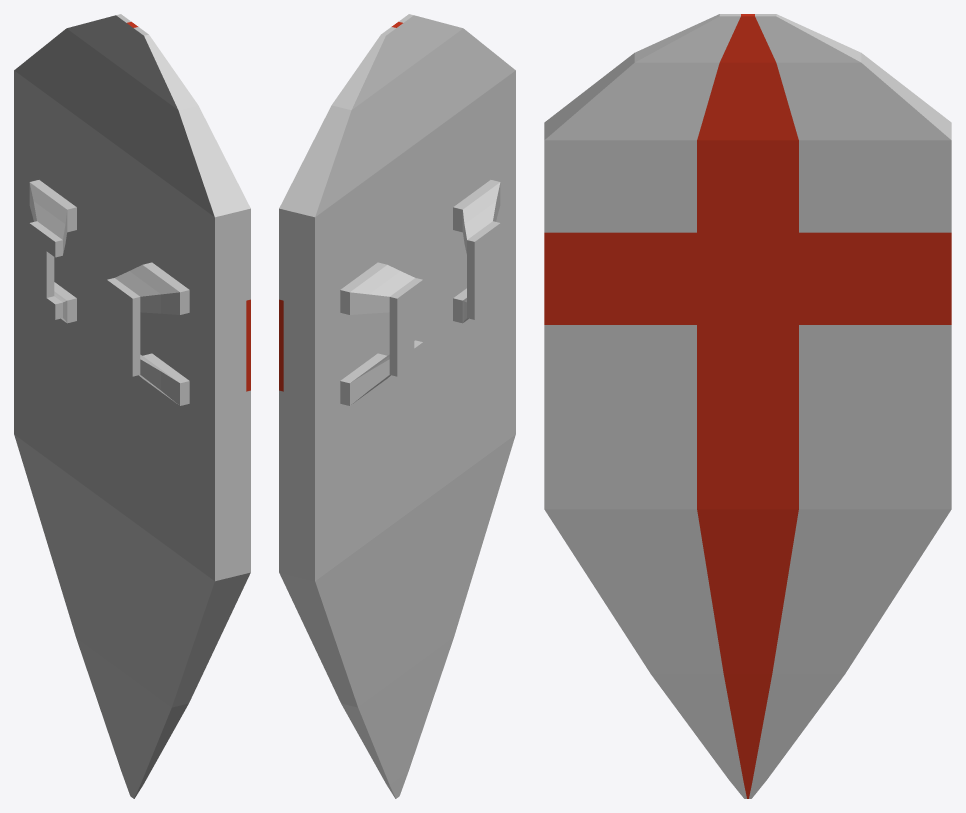
File: Knight_Shield.fbx
3 renders of one model, left to right at view 1: azimuth 30°, elevation 25°; view 2: azimuth 150°, elevation 25°; view 3: azimuth 270°, elevation 25°, orthographic.
Parts seen in each view (by area): view 1: Cube; view 2: Cube; view 3: Cube.
Boxes of the visible parts, x1,y1,x2,y2 form: Cube: [14, 14, 250, 798]; Cube: [279, 14, 515, 798]; Cube: [544, 14, 951, 798].
Size of the model in its own units: 14.03 by 149 by 70.26.
